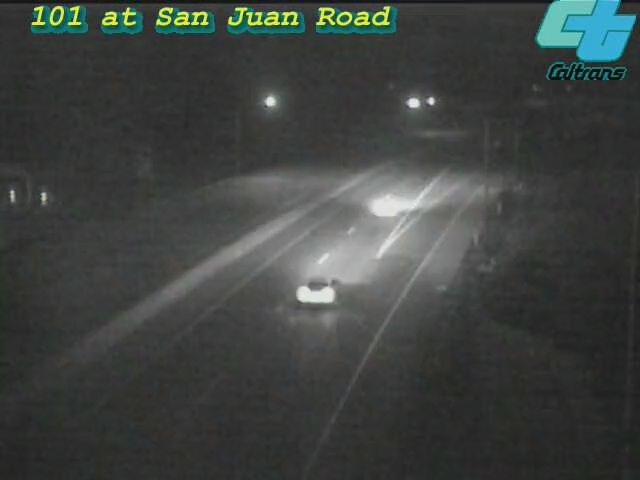vehicle: (346, 167, 426, 247), (276, 251, 356, 331)
